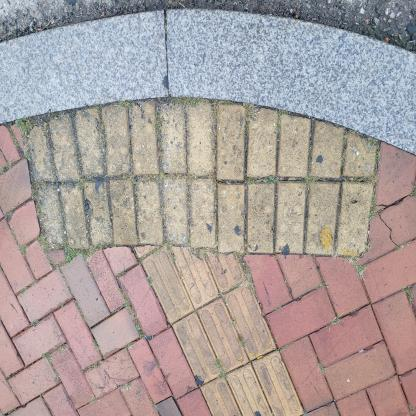podotacti: (20, 100, 378, 269)
